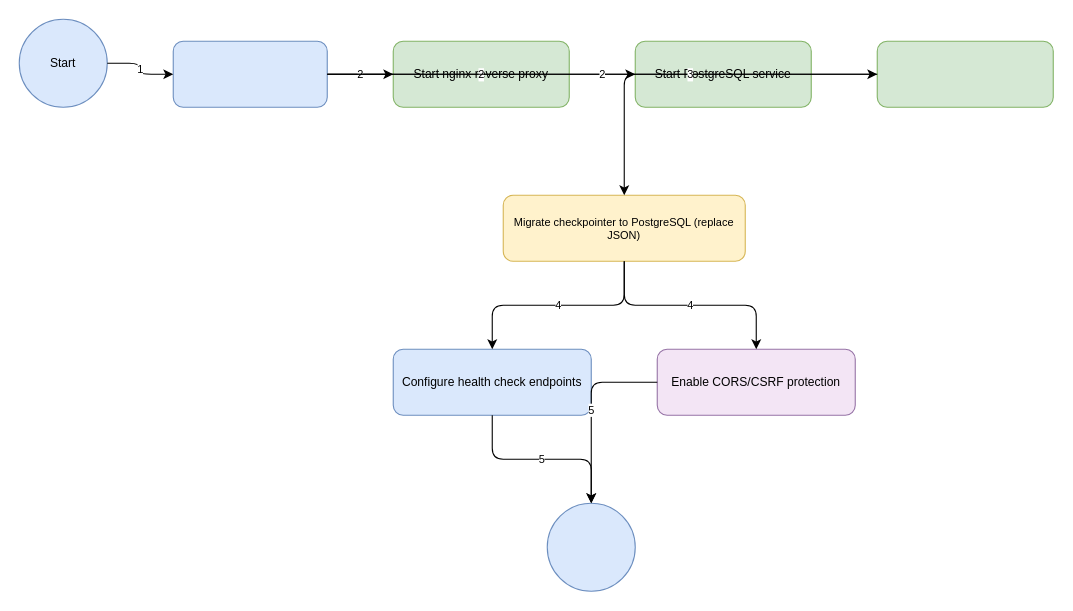
Image size: 1073x611. Some labels were removed from this diagram. Each missing label, with the centre of its shape:
"Deploy docker-compose.yml" belongs at point 249,73.
"End" belongs at point 590,546.
"Start Application containers" belongs at point 964,73.
